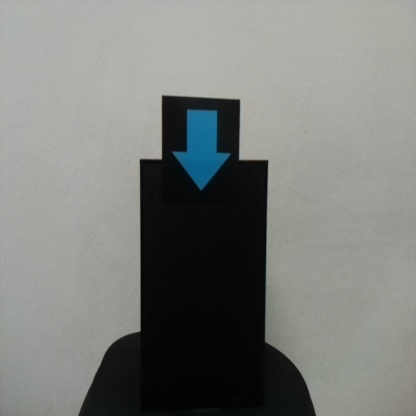id_2: (163, 97, 239, 204)
